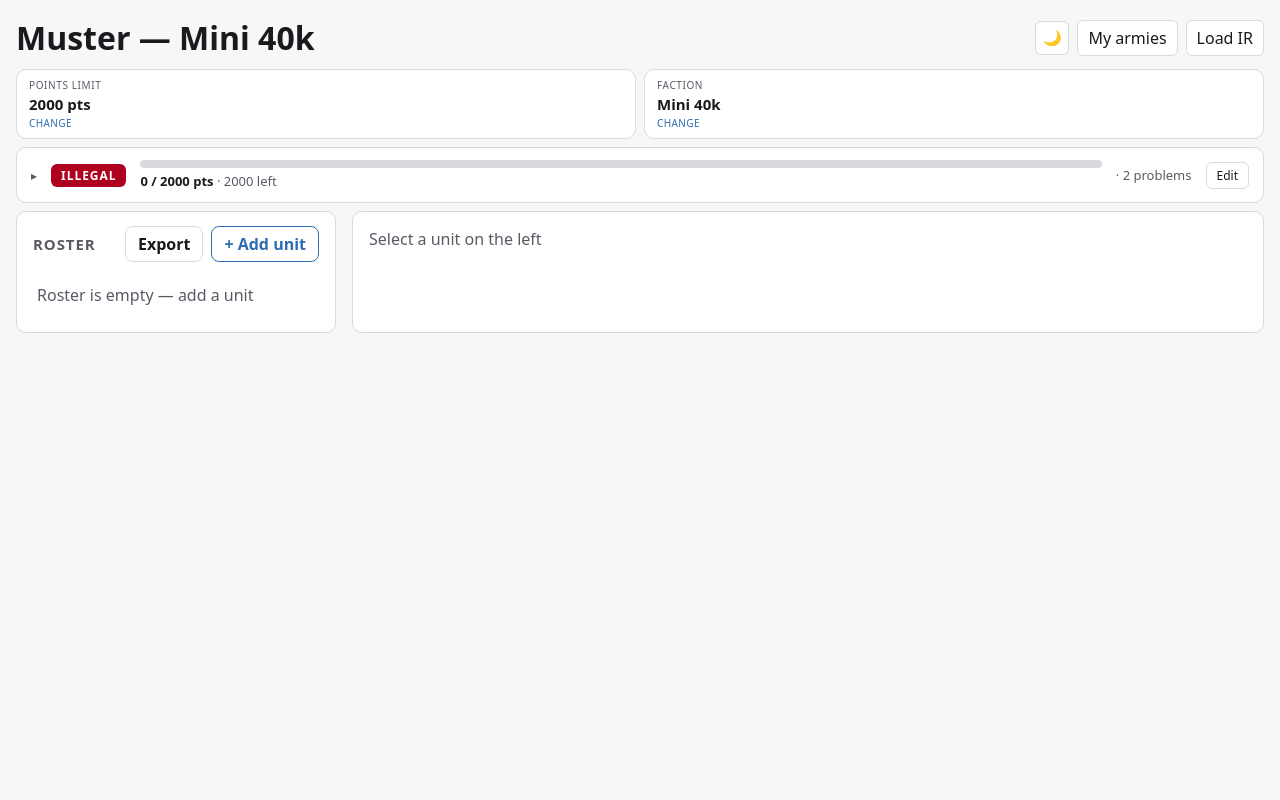
builder interactions › adding a unit raises the live points total
This screenshot has width=1280, height=800.
Expected: the element with test id "points" shows "0 / 2000", [140, 172, 277, 190]
Captain (90 pts) — added via the unit picker
Click the button "+ Add unit". click: (265, 244)
box: [211, 226, 319, 262]
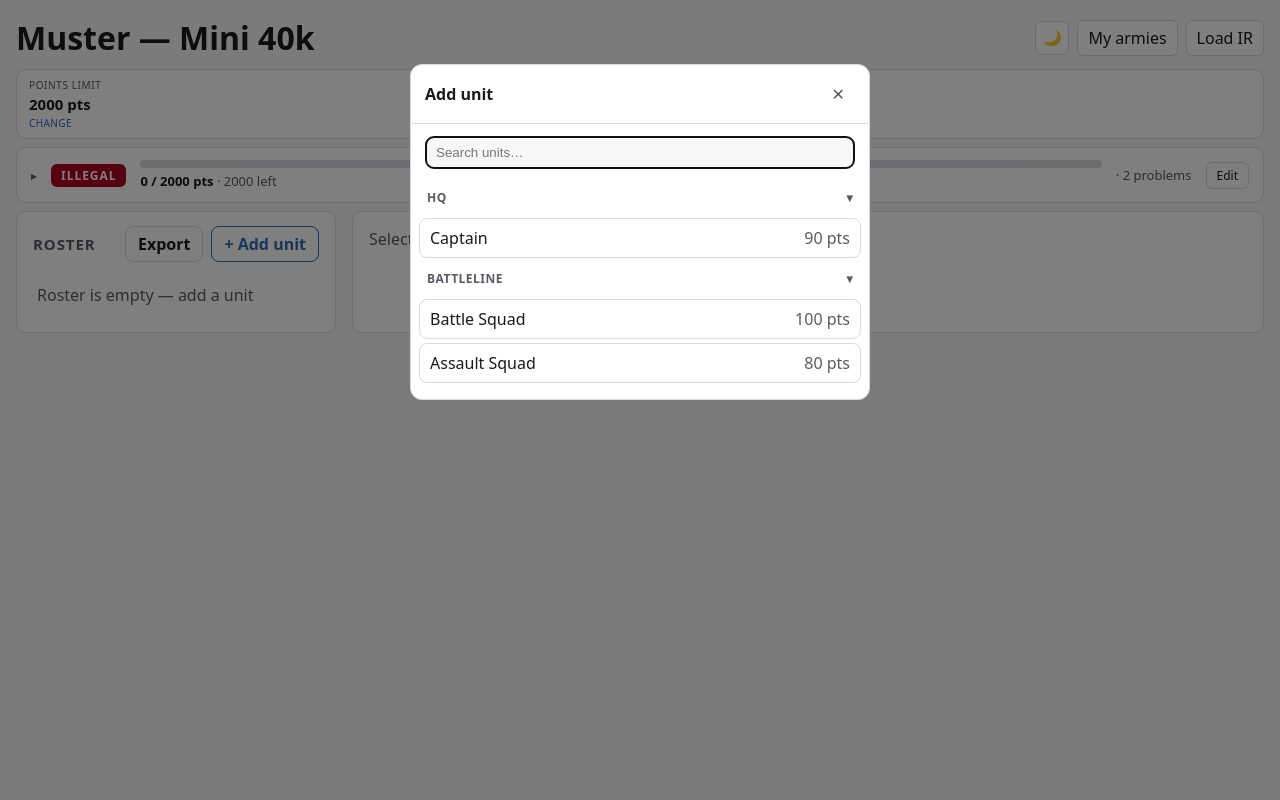
Click the button with aria-label "add Captain". click: (459, 238)
box: [419, 218, 861, 258]
(page scrolled)
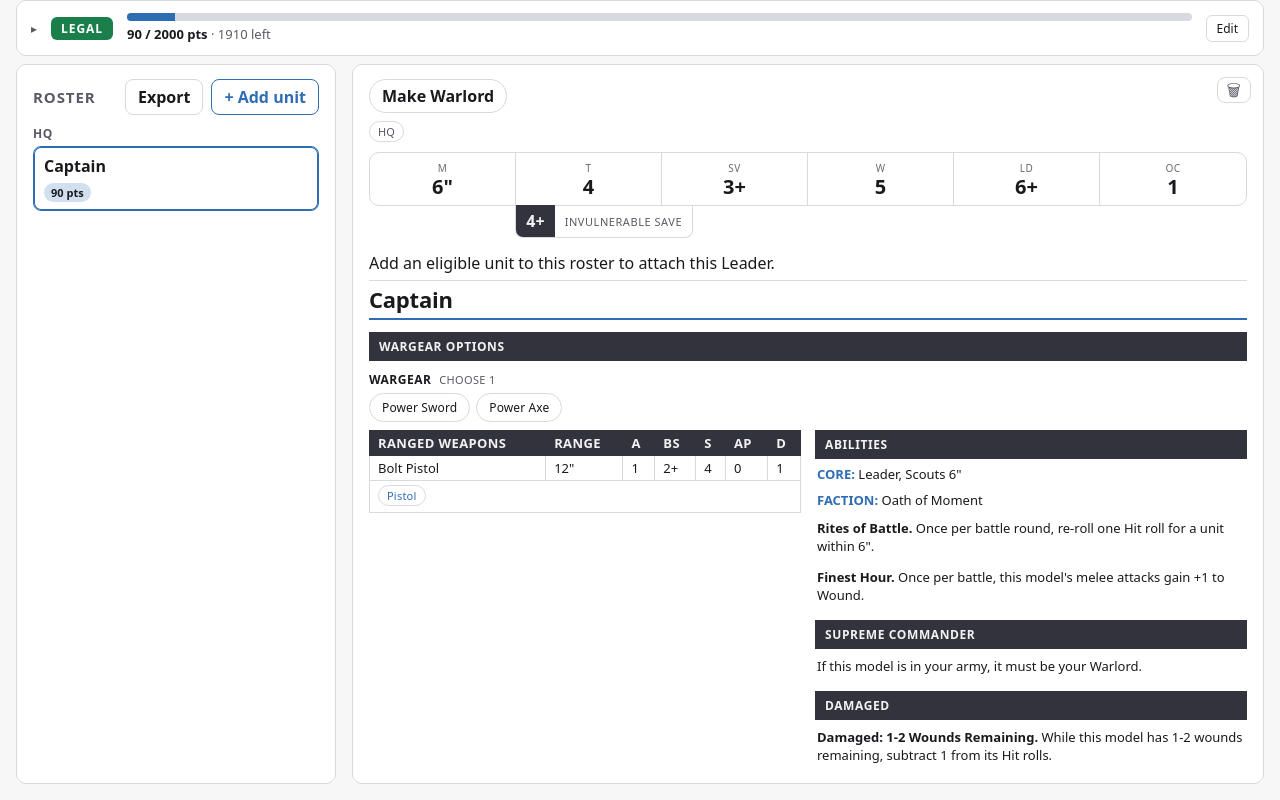
Expected: the element with test id "points" shows "90 / 2000", [127, 25, 271, 43]
Expected: the element with test id "roster-list" shows "Captain", [33, 146, 319, 211]
